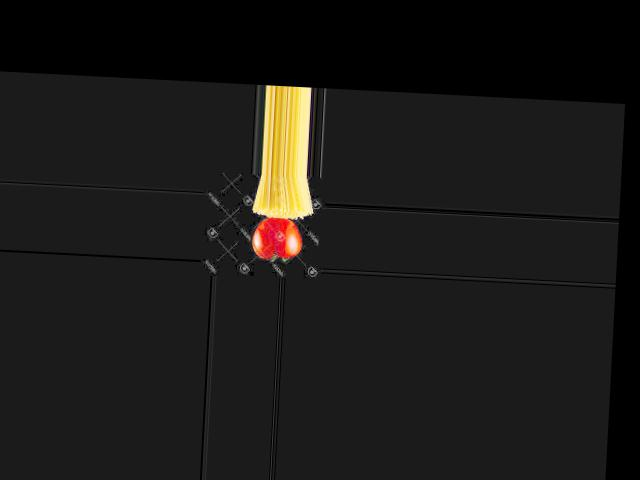tomato: (252, 216, 303, 260)
